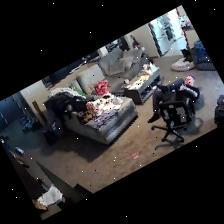person: (147, 76, 199, 123)
